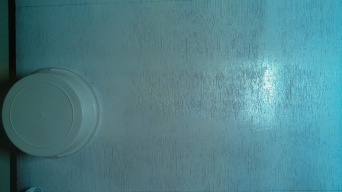f: (3, 64, 106, 164)
